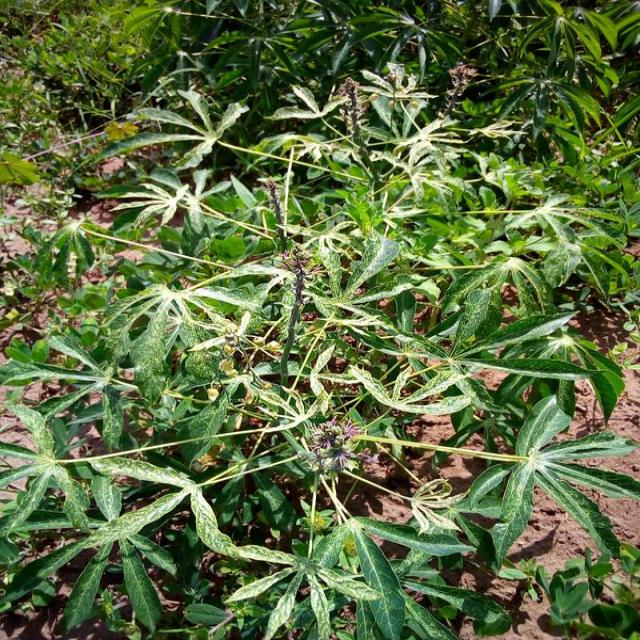cassava leaf: (460, 392, 638, 575), (350, 521, 406, 638)
